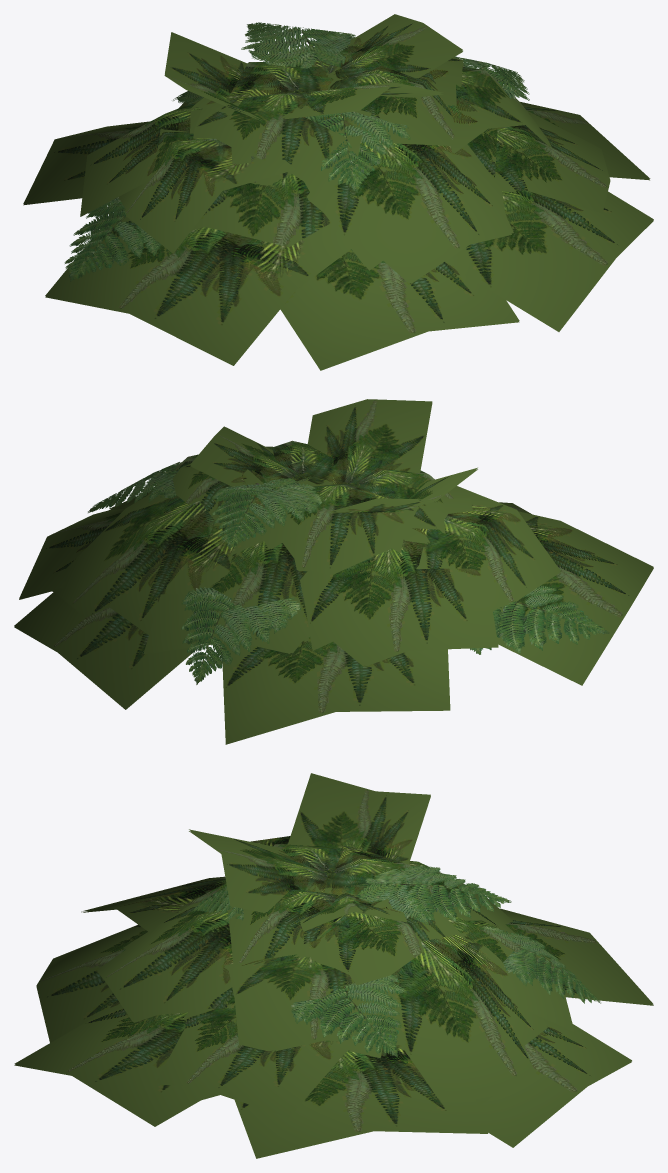
The model's file is ptch_endr_frst_cluster_a1_l0.fbx.
The picture shows the model from 3 angles, top to bottom: view 1: azimuth 30°, elevation 25°; view 2: azimuth 150°, elevation 25°; view 3: azimuth 270°, elevation 25°; orthographic projection. The views are drawn at different scales.
Parts seen in each view (by area): view 1: mesh_node; view 2: mesh_node; view 3: mesh_node.
Boxes of the visible parts, x1,y1,x2,y2 form: mesh_node: (23, 14, 653, 370); mesh_node: (14, 399, 653, 744); mesh_node: (14, 773, 653, 1158).
Bounding box in the file's own units: 6.26 × 2.02 × 6.16.
